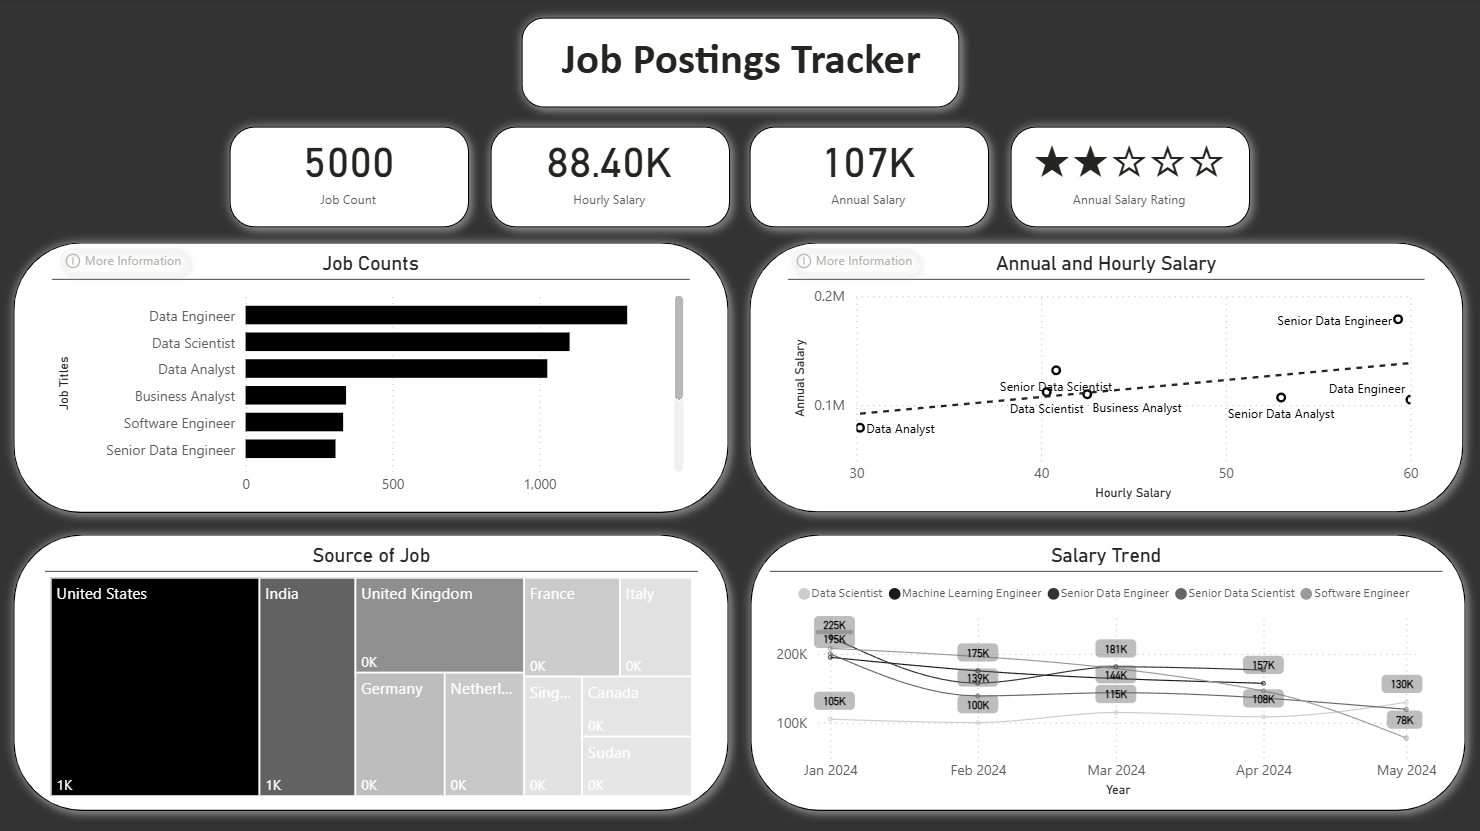

What the dashboard file says about the page in this screenshot:
{"tool":"powerbi","page":{"name":"Main Page","canvas":[1280,720],"ordinal":0},"visuals":[{"type":"shape","title":"BG","box":[0,0,1280,719.7],"z":0},{"type":"shape","title":"Title & Slicer (BG)","box":[112.7,14.3,1054.2,93.6],"z":0,"group":"g9"},{"type":"shape","title":"Bar & Scatter BG","box":[190.6,101.6,224.8,105.2],"z":0,"group":"g5"},{"type":"group","id":"g1","title":"Hourly Salary (ADJ)","box":[415.4,101.6,224.8,105.2],"z":0,"group":"g10"},{"type":"shape","title":"Bar & Scatter BG","box":[415.4,101.6,224.8,105.2],"z":0,"group":"g1"},{"type":"shape","title":"Bar & Scatter BG","box":[639.5,101.6,224.8,105.2],"z":0,"group":"g3"},{"type":"shape","title":"Bar & Scatter BG","box":[864.4,101.6,224.8,105.2],"z":0,"group":"g2"},{"type":"shape","title":"Bar & Scatter BG","box":[4.5,201.5,634.8,251.3],"z":0,"group":"g8"},{"type":"shape","title":"Bar & Scatter BG","box":[639.4,201.5,633.9,250.9],"z":0,"group":"g7"},{"type":"shape","title":"Bar & Scatter BG","box":[4.5,453.4,634.8,256.5],"z":0,"group":"g6"},{"type":"shape","title":"Bar & Scatter BG","box":[640,453.4,634.8,256.5],"z":0,"group":"g4"},{"type":"group","id":"g2","title":"Salary Rating","box":[864.4,101.6,224.9,104.9],"z":500,"group":"g10"},{"type":"textbox","title":"Title","box":[135.7,29.9,322.3,61.3],"z":1000,"group":"g9"},{"type":"group","id":"g3","title":"Annual Salary","box":[639.5,101.6,224.8,105.2],"z":1000,"group":"g10"},{"type":"card","fields":{"Values":["CountNonNull(Live-Data.Job_Title_General)"]},"box":[205.6,103.4,193.7,85.5],"z":1000,"group":"g5"},{"type":"card","fields":{"Values":["Median(Live-Data.Hourly_Salary_Adj)"]},"box":[430.4,103.4,193.7,85.5],"z":1000,"group":"g1"},{"type":"card","fields":{"Values":["Median(Live-Data.Annual_Salary)"]},"box":[654.5,103.4,193.7,85.5],"z":1000,"group":"g3"},{"type":"card","fields":{"Values":["Live-Data.Annual_Salary_Rating"]},"box":[879.4,103.4,193.7,85.5],"z":1000,"group":"g2"},{"type":"barChart","title":"Job Counts","fields":{"Y":["CountNonNull(Live-Data.Job_Title_General)"],"Category":["Live-Data.Job_Title_General"]},"box":[47.1,218.3,549.7,218.3],"z":1000,"group":"g8"},{"type":"scatterChart","title":"Annual and Hourly Salary","fields":{"X":["Median(Live-Data.Hourly_Salary)"],"Y":["Live-Data.Annual_Salary"],"Series":["Live-Data.Job_Title_General"]},"box":[681.9,218.3,548.9,217.9],"z":1000,"group":"g7"},{"type":"group","id":"g4","title":"Salary Trends","box":[640,453.4,634.8,256.5],"z":1000},{"type":"treemap","title":"Source of Job","fields":{"Group":["Live-Data.Job_Country"],"Values":["CountNonNull(Live-Data.Job_Title_General)"]},"box":[41.1,470,562.9,222.2],"z":1000,"group":"g6"},{"type":"lineChart","title":"Salary Trend","fields":{"Category":["Live-Data.Job_Posted_Date.Variation.Date Hierarchy.Year","Live-Data.Job_Posted_Date.Variation.Date Hierarchy.Quarter","Live-Data.Job_Posted_Date.Variation.Date Hierarchy.Month","Live-Data.Job_Posted_Date.Variation.Date Hierarchy.Day"],"Series":["Live-Data.Job_Title_General"],"Y":["Median(Live-Data.Annual_Salary)"]},"box":[665.9,470,579.8,222.2],"z":1000,"group":"g4"},{"type":"actionButton","box":[45.5,206.5,127.3,39.6],"z":1500,"group":"g8"},{"type":"actionButton","box":[675.3,206.5,127.3,39.6],"z":1500,"group":"g7"},{"type":"actionButton","box":[40.9,459.6,127.3,39.6],"z":1500,"group":"g6"},{"type":"slicer","fields":{"Values":["Sheet1.Job_Title_General"]},"box":[458.1,35.6,300,50.5],"z":2000,"group":"g9"},{"type":"group","id":"g5","title":"Job Count","box":[190.6,101.6,224.8,105.2],"z":2000,"group":"g10"},{"type":"group","id":"g6","title":"Job Sources","box":[4.5,453.4,634.8,256.5],"z":2000},{"type":"actionButton","box":[758,35.6,120.4,49.8],"z":3000,"group":"g9"},{"type":"group","id":"g7","title":"Yr & Hr Salary","box":[639.4,201.5,633.9,250.9],"z":3000},{"type":"group","id":"g8","title":"Job count & Qty","box":[4.5,201.5,634.8,251.3],"z":4000},{"type":"group","id":"g9","title":"Title","box":[112.7,14.3,1053.9,93.9],"z":5000},{"type":"group","id":"g10","title":"Major Metrics","box":[190.6,101.6,898.7,105.2],"z":6000}]}

Visuals, with their boxes in screenshot pixels (x1, y1, x2, y2), scaled from the page's 1280x720 canvas onto the 1480x831 screenshot:
"BG" shape: select_region(0, 0, 1479, 830)
"Title & Slicer (BG)" shape: select_region(130, 17, 1349, 125)
"Bar & Scatter BG" shape: select_region(220, 117, 480, 239)
"Hourly Salary (ADJ)" group: select_region(480, 117, 740, 239)
"Bar & Scatter BG" shape: select_region(480, 117, 740, 239)
"Bar & Scatter BG" shape: select_region(739, 117, 999, 239)
"Bar & Scatter BG" shape: select_region(999, 117, 1259, 239)
"Bar & Scatter BG" shape: select_region(5, 233, 739, 523)
"Bar & Scatter BG" shape: select_region(739, 233, 1472, 522)
"Bar & Scatter BG" shape: select_region(5, 523, 739, 819)
"Bar & Scatter BG" shape: select_region(740, 523, 1474, 819)
"Salary Rating" group: select_region(999, 117, 1260, 238)
"Title" textbox: select_region(157, 35, 530, 105)
"Annual Salary" group: select_region(739, 117, 999, 239)
card - CountNonNull(Live-Data.Job_Title_General): select_region(238, 119, 462, 218)
card - Median(Live-Data.Hourly_Salary_Adj): select_region(498, 119, 722, 218)
card - Median(Live-Data.Annual_Salary): select_region(757, 119, 981, 218)
card - Live-Data.Annual_Salary_Rating: select_region(1017, 119, 1241, 218)
"Job Counts" barChart: select_region(54, 252, 690, 504)
"Annual and Hourly Salary" scatterChart: select_region(788, 252, 1423, 503)
"Salary Trends" group: select_region(740, 523, 1474, 819)
"Source of Job" treemap: select_region(48, 542, 698, 799)
"Salary Trend" lineChart: select_region(770, 542, 1440, 799)
actionButton: select_region(53, 238, 200, 284)
actionButton: select_region(781, 238, 928, 284)
actionButton: select_region(47, 530, 194, 576)
slicer - Sheet1.Job_Title_General: select_region(530, 41, 877, 99)
"Job Count" group: select_region(220, 117, 480, 239)
"Job Sources" group: select_region(5, 523, 739, 819)
actionButton: select_region(876, 41, 1016, 99)
"Yr & Hr Salary" group: select_region(739, 233, 1472, 522)
"Job count & Qty" group: select_region(5, 233, 739, 523)
"Title" group: select_region(130, 17, 1349, 125)
"Major Metrics" group: select_region(220, 117, 1260, 239)
